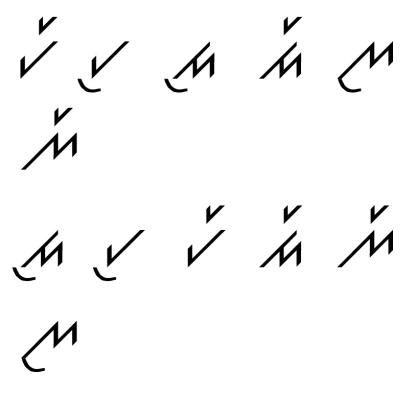dar: (257, 10, 314, 80), (256, 203, 311, 271)
daw: (7, 220, 65, 286), (161, 39, 223, 94)
nar: (336, 197, 403, 274), (17, 103, 84, 175)
naw: (16, 314, 84, 383), (333, 31, 398, 100)
par: (175, 200, 232, 270), (11, 11, 60, 79)
paw: (90, 220, 152, 286), (74, 29, 128, 96)
